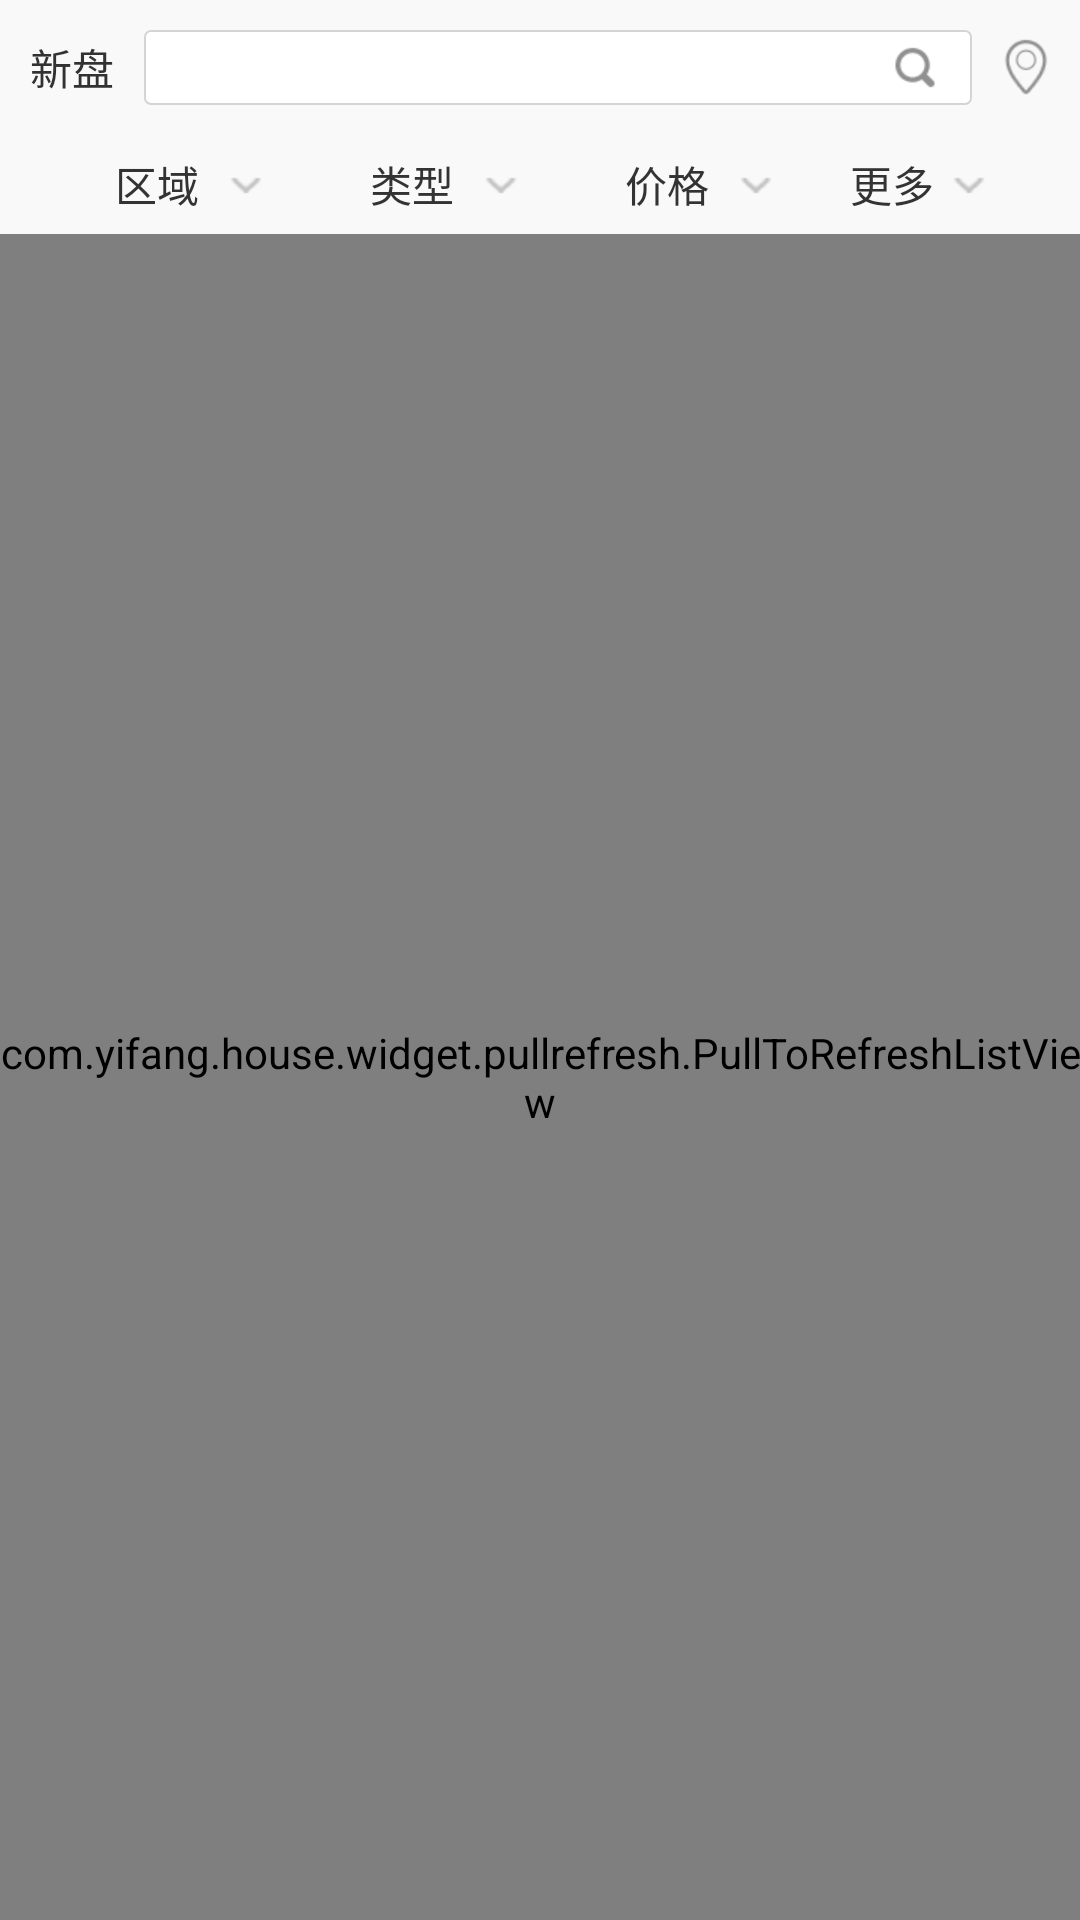

Icons on this 1080 x 1920 Android screen, each with its box as bbox=(x1, y1, x2, y2):
map: bbox=(1005, 40, 1047, 94)
search: bbox=(895, 48, 935, 87)
tiipdown: bbox=(232, 178, 260, 193), bbox=(487, 178, 515, 193), bbox=(742, 178, 770, 193), bbox=(955, 178, 983, 193)
